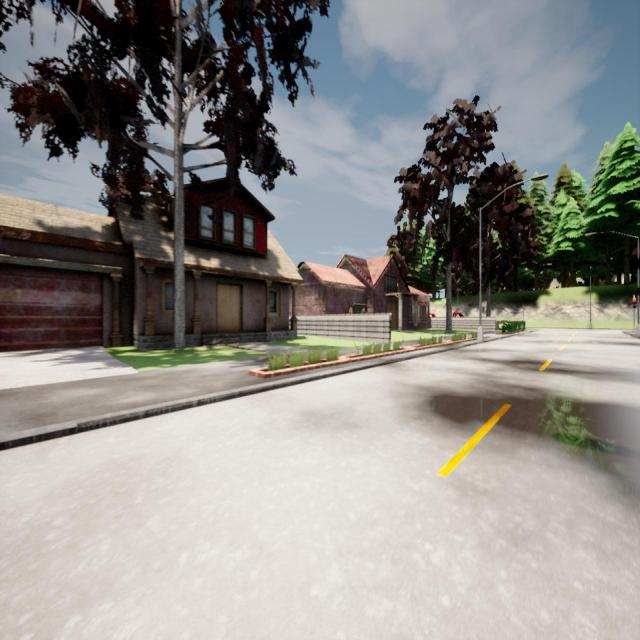traffic_light: (632, 298, 636, 308)
